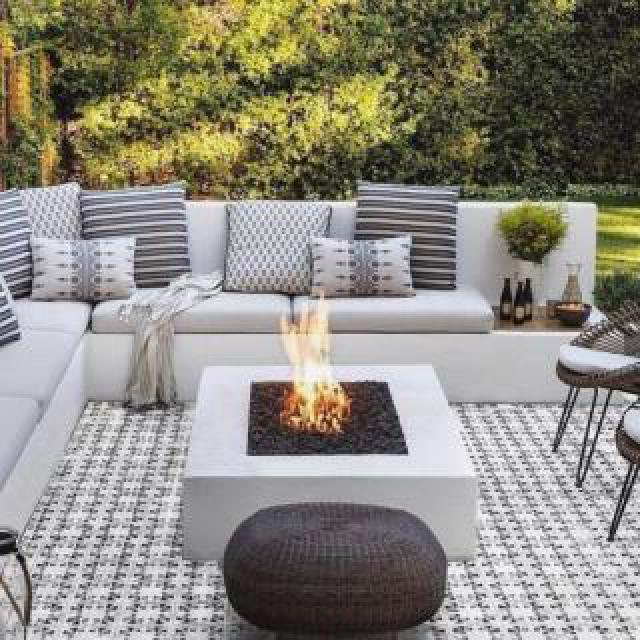Fire: (270, 290, 346, 438)
